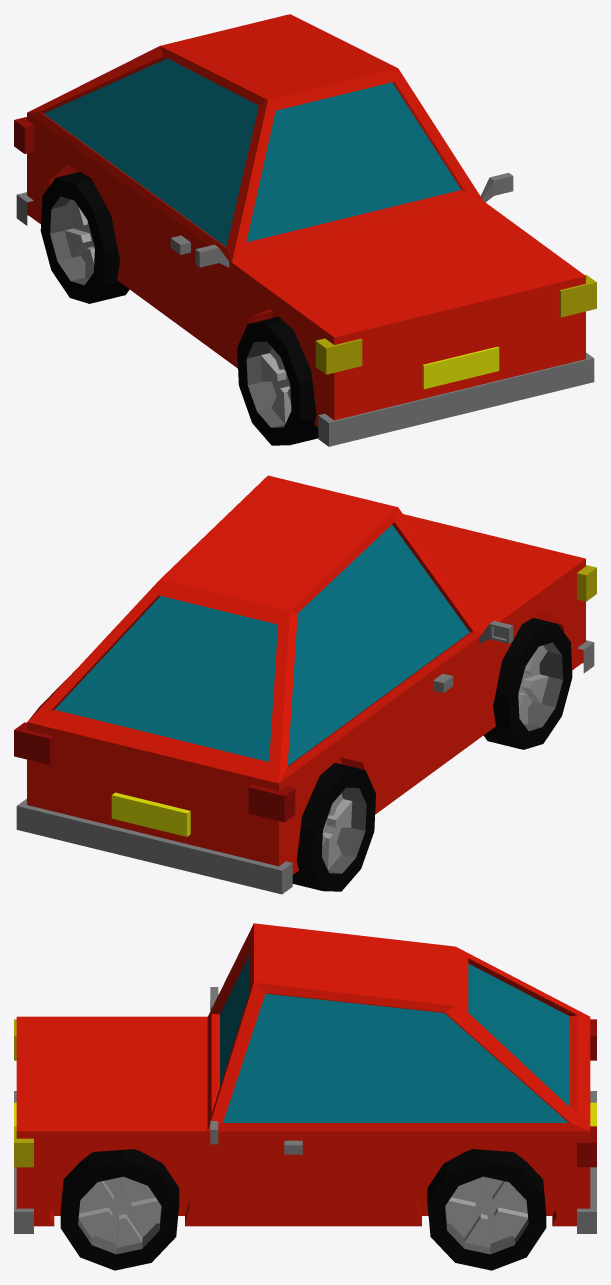
Rendered from Car2.fbx.
The picture shows the model from 3 angles, top to bottom: view 1: azimuth 30°, elevation 25°; view 2: azimuth 150°, elevation 25°; view 3: azimuth 270°, elevation 25°; orthographic projection. The views are drawn at different scales.
Parts seen in each view (by area): view 1: Car2; view 2: Car2; view 3: Car2.
Part boxes in pixels (x1,y1,x2,y2): Car2: (14,14,596,446); Car2: (14,475,596,894); Car2: (14,923,596,1270).
Bounding box in the file's own units: 2.56 × 2.14 × 4.42.
